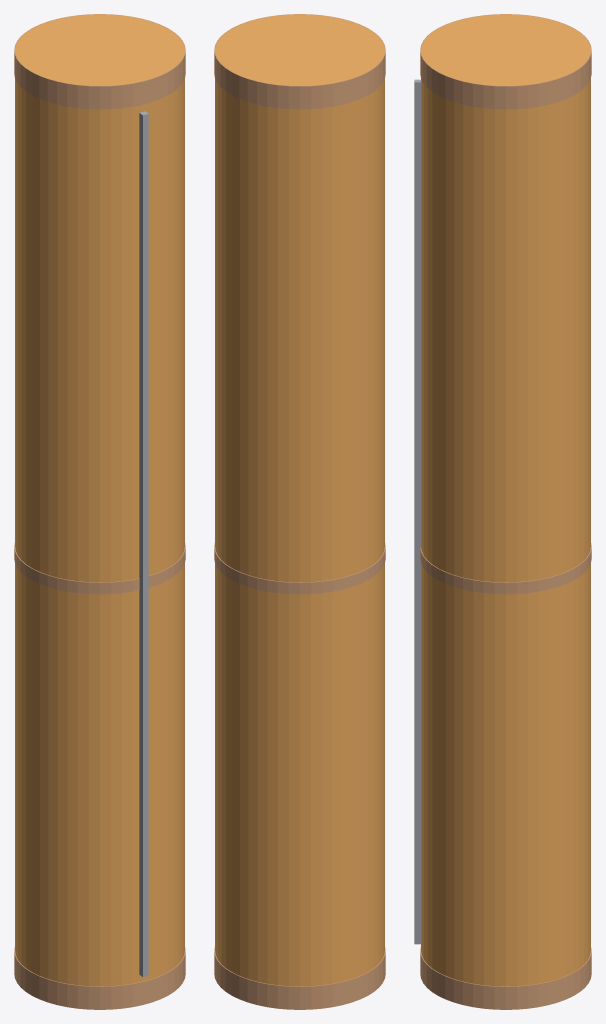
Rendered from stage1_long.glb.
The picture shows the model from 3 angles, left to right: view 1: azimuth 30°, elevation 25°; view 2: azimuth 150°, elevation 25°; view 3: azimuth 270°, elevation 25°; orthographic projection.
Parts seen in each view (by area): view 1: stage1_long_0, stage1_long_4, stage1_long_2, stage1_long_1, stage1_long_3; view 2: stage1_long_0, stage1_long_2, stage1_long_1, stage1_long_3; view 3: stage1_long_0, stage1_long_4, stage1_long_2, stage1_long_1, stage1_long_3.
Part boxes in pixels (x1,y1,x2,y2): stage1_long_0: (15, 14, 184, 986); stage1_long_4: (139, 111, 148, 976); stage1_long_2: (14, 14, 185, 109); stage1_long_1: (14, 947, 185, 1009); stage1_long_3: (14, 543, 185, 594); stage1_long_0: (215, 14, 384, 986); stage1_long_2: (214, 14, 385, 109); stage1_long_1: (214, 947, 385, 1009); stage1_long_3: (214, 543, 385, 594); stage1_long_0: (421, 14, 590, 986); stage1_long_4: (414, 79, 421, 944); stage1_long_2: (420, 14, 591, 109); stage1_long_1: (420, 947, 591, 1009); stage1_long_3: (420, 543, 591, 594).
Size of the model in its own units: 2.02 by 12 by 2.09.
